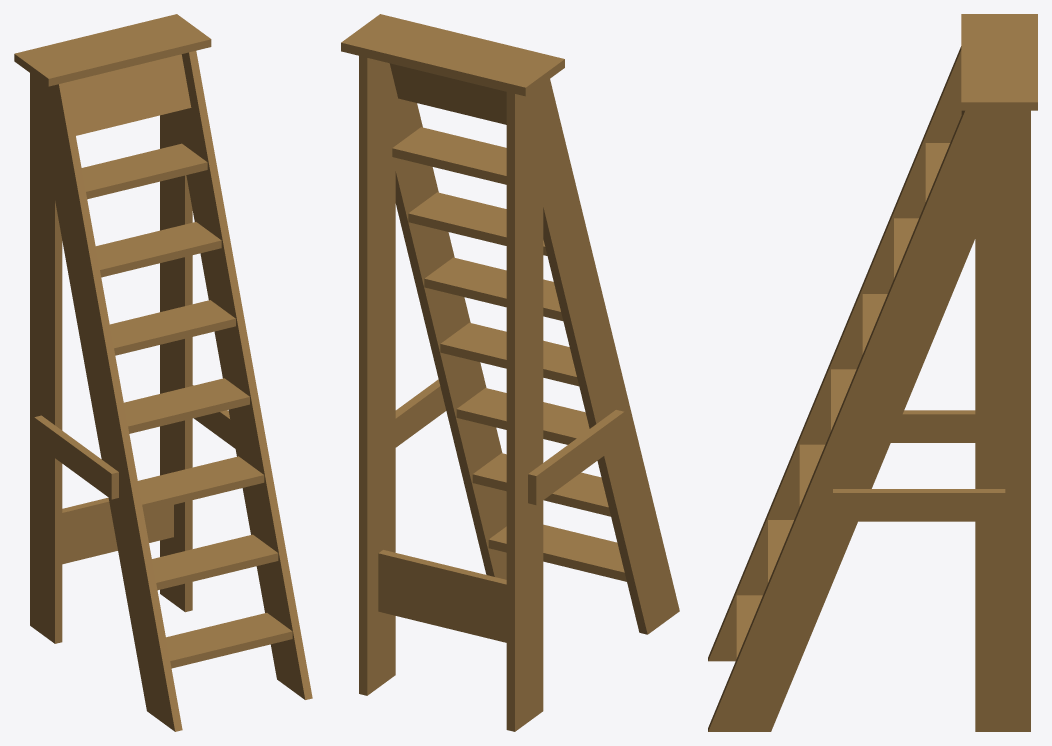
Rendered from Ladder.fbx.
The picture shows the model from 3 angles, left to right: view 1: azimuth 30°, elevation 25°; view 2: azimuth 150°, elevation 25°; view 3: azimuth 270°, elevation 25°; orthographic projection. The views are drawn at different scales.
Parts seen in each view (by area): view 1: Ladder; view 2: Ladder; view 3: Ladder.
Boxes of the visible parts, box(x1,y1,x2,y2) form: Ladder: box(14, 14, 312, 731); Ladder: box(341, 14, 679, 731); Ladder: box(708, 14, 1037, 731).
Bounding box in the file's own units: 66.3 × 223 × 105.
